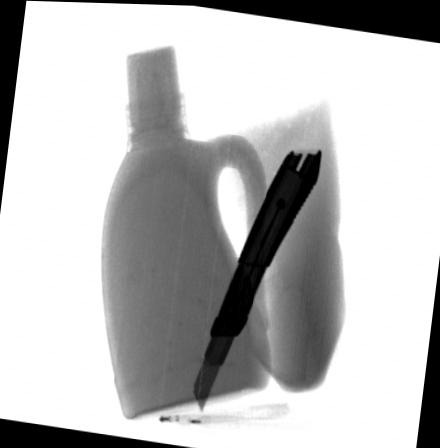Knife: (190, 144, 322, 412)
